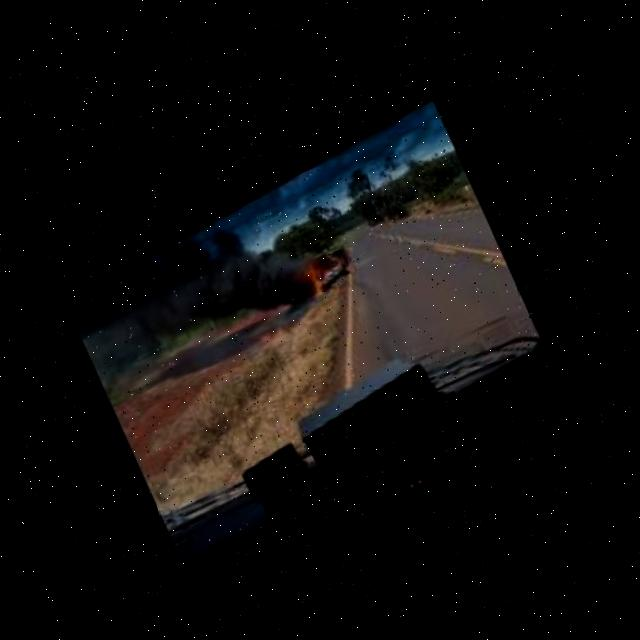fire: (296, 260, 328, 299)
